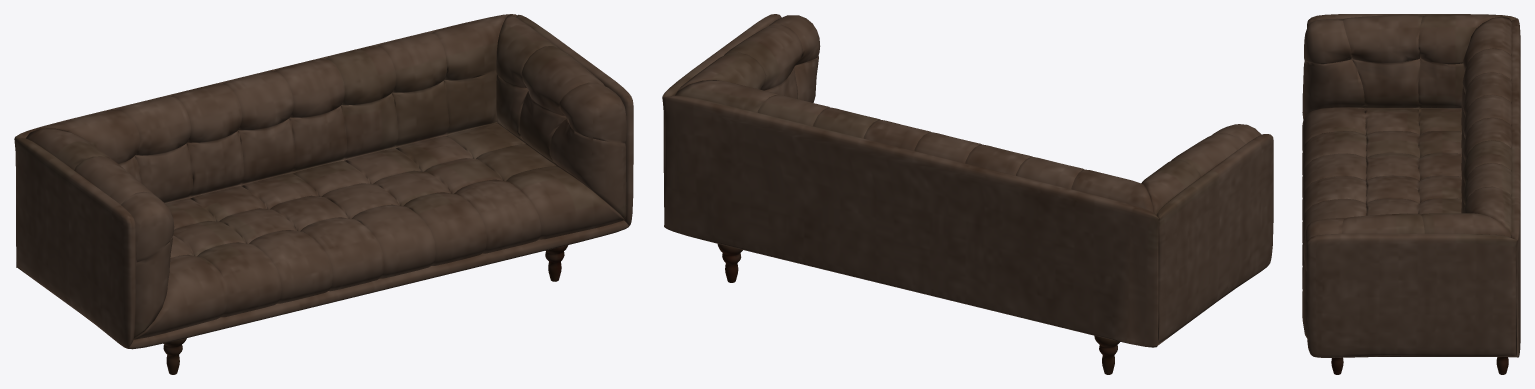
File: sofa-8.glb
The picture shows the model from 3 angles, left to right: view 1: azimuth 30°, elevation 25°; view 2: azimuth 150°, elevation 25°; view 3: azimuth 270°, elevation 25°; orthographic projection. The views are drawn at different scales.
Visible parts, largest first — view 1: Sofa; view 2: Sofa; view 3: Sofa.
Boxes of the visible parts, x1,y1,x2,y2 form: Sofa: [14, 14, 633, 374]; Sofa: [662, 14, 1273, 374]; Sofa: [1302, 14, 1520, 374].
Size of the model in its own units: 17.64 by 6.35 by 7.24.
Materials: 1 (1 with a texture image).
